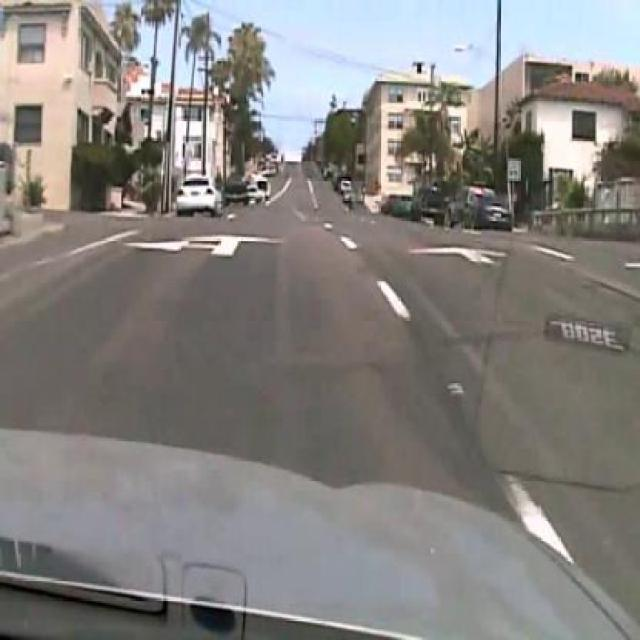speedLimitUrdbl: (506, 156, 520, 182)
